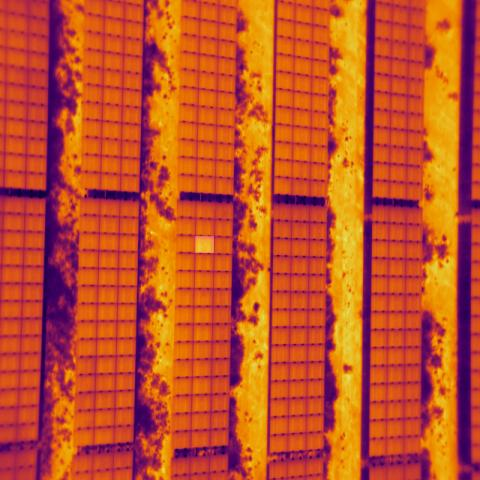fault: (195, 236, 214, 253)
